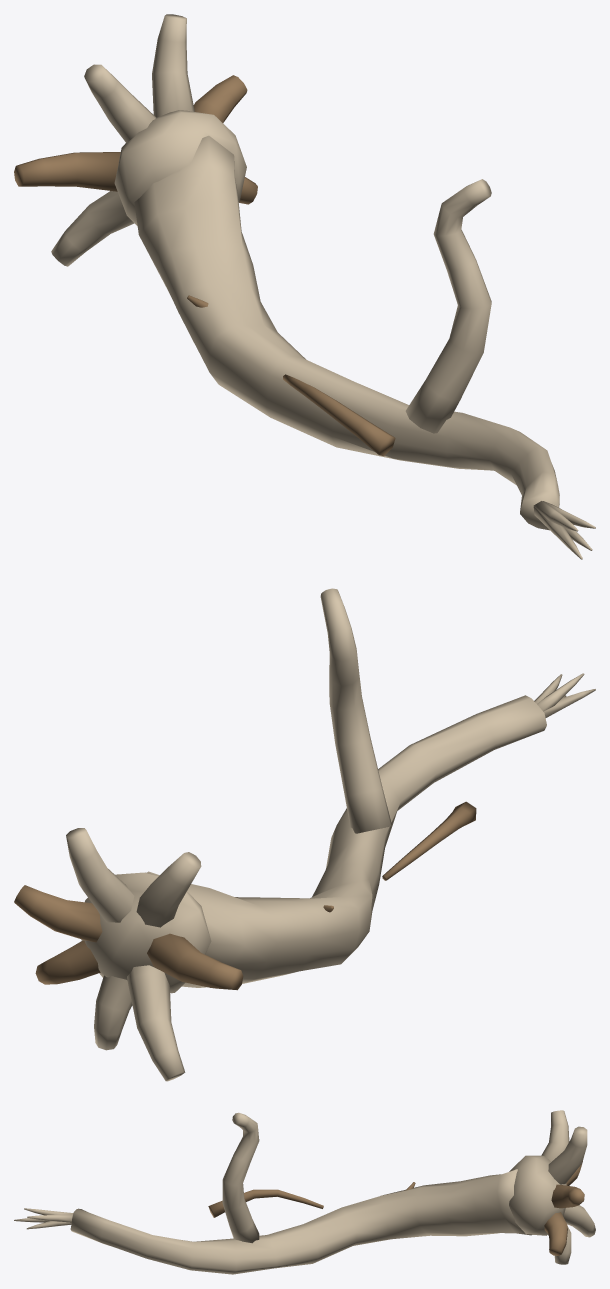
File: driftwood_log.26376603.glb
3 renders of one model, top to bottom at view 1: azimuth 30°, elevation 25°; view 2: azimuth 150°, elevation 25°; view 3: azimuth 270°, elevation 25°, orthographic. The views are drawn at different scales.
Visible parts, largest first — view 1: driftwood_log; view 2: driftwood_log; view 3: driftwood_log.
Boxes of the visible parts, x1,y1,x2,y2 form: driftwood_log: [14, 14, 595, 559]; driftwood_log: [14, 588, 595, 1081]; driftwood_log: [14, 1110, 595, 1274].
Bounding box in the file's own units: 1.56 × 1.88 × 5.74.
